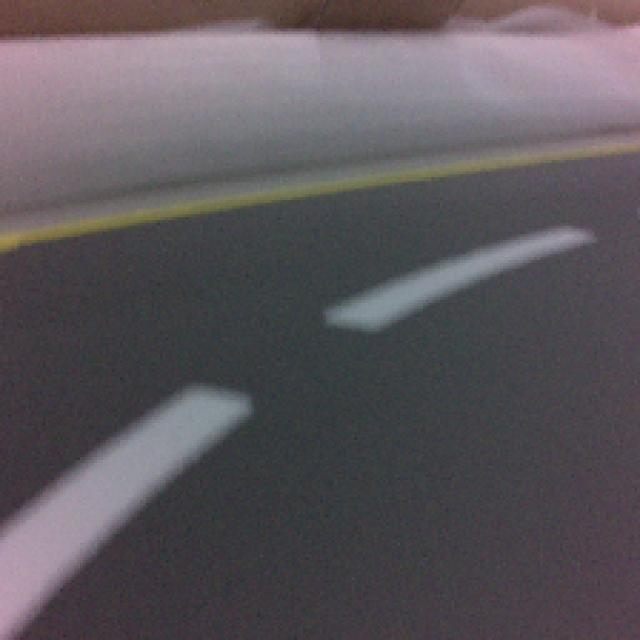Guard rail: (0, 383, 254, 638)
